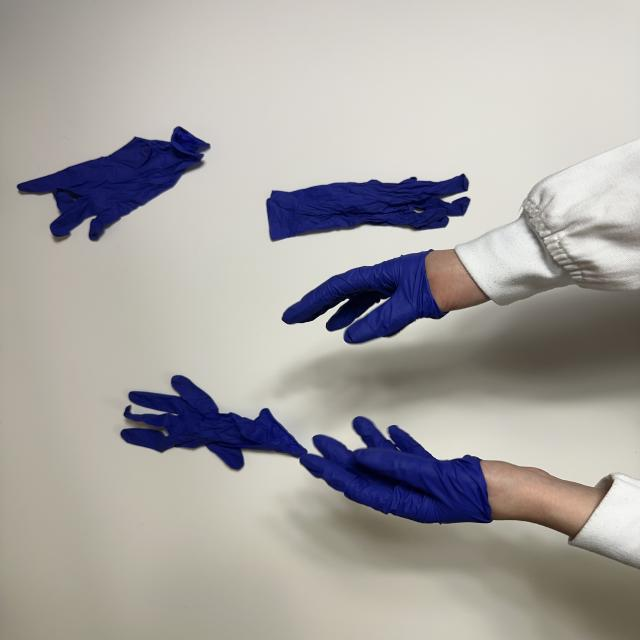glove_not_fitted: (303, 416, 605, 540), (282, 248, 493, 344)
